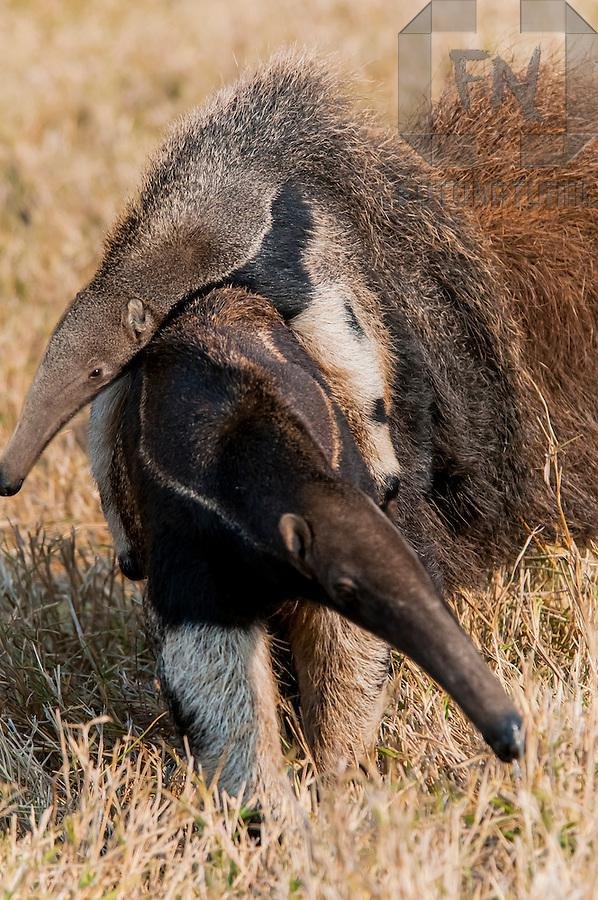TamanduaBandeira: (5, 60, 556, 506), (121, 297, 528, 833)
